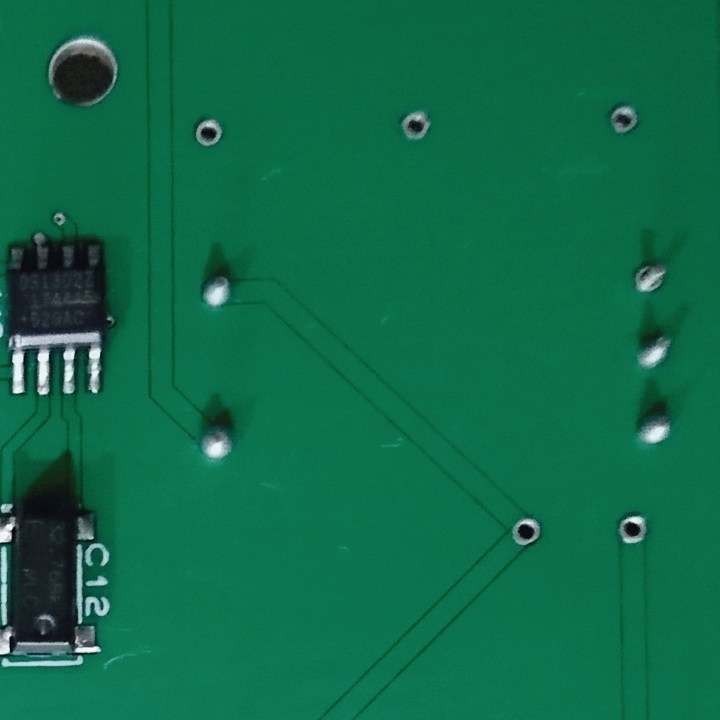F: (630, 259, 672, 297), (398, 106, 434, 150), (614, 511, 654, 550), (510, 514, 547, 550), (191, 117, 229, 152), (607, 103, 642, 135)
